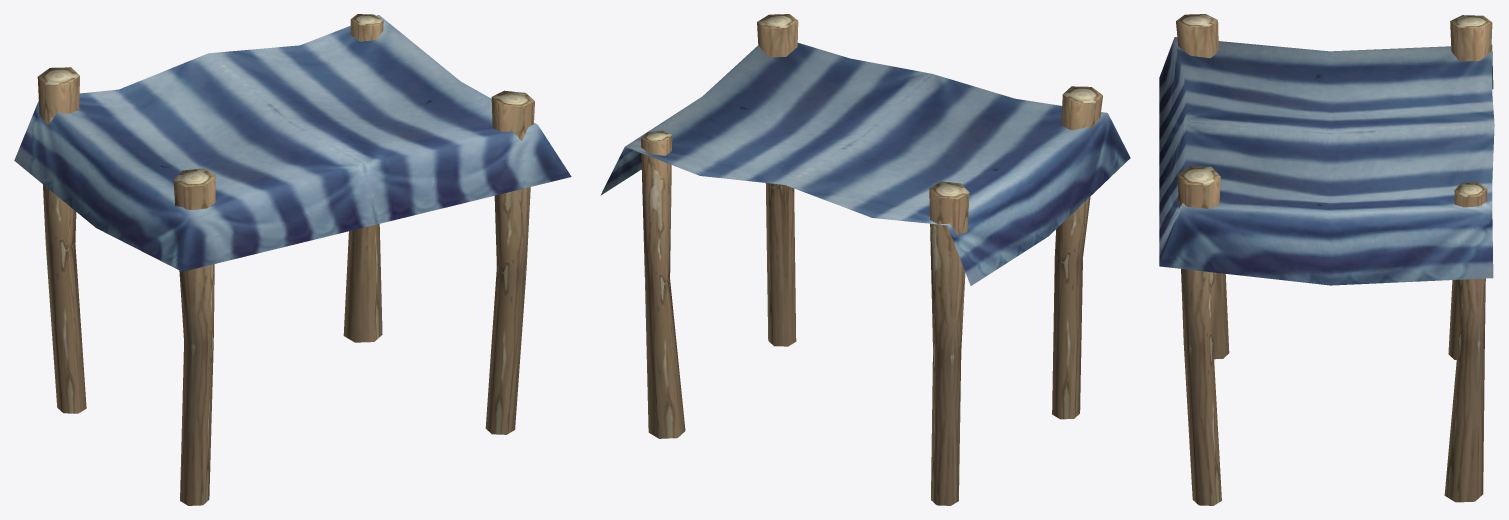
Rendered from Map_04_grocery02.FBX.
3 renders of one model, left to right at view 1: azimuth 30°, elevation 25°; view 2: azimuth 150°, elevation 25°; view 3: azimuth 270°, elevation 25°, orthographic. The views are drawn at different scales.
Visible parts, largest first — view 1: Map_04_grocery02; view 2: Map_04_grocery02; view 3: Map_04_grocery02.
Boxes of the visible parts, x1=… form: Map_04_grocery02: x1=14, y1=14, x2=571, y2=505; Map_04_grocery02: x1=600, y1=14, x2=1130, y2=505; Map_04_grocery02: x1=1159, y1=14, x2=1494, y2=505.
Size of the model in its own units: 31.84 by 25.99 by 23.89.
